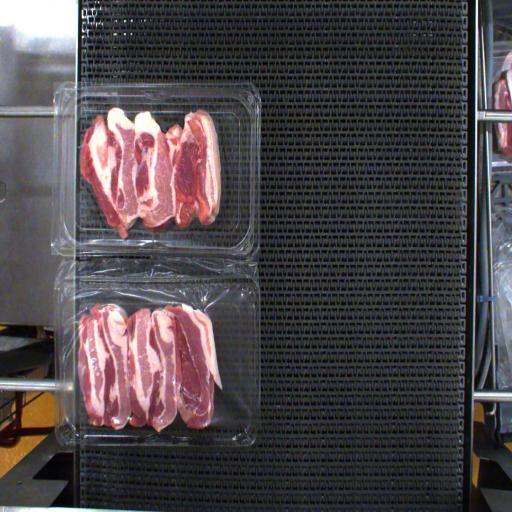unsealed: (56, 274, 258, 418)
